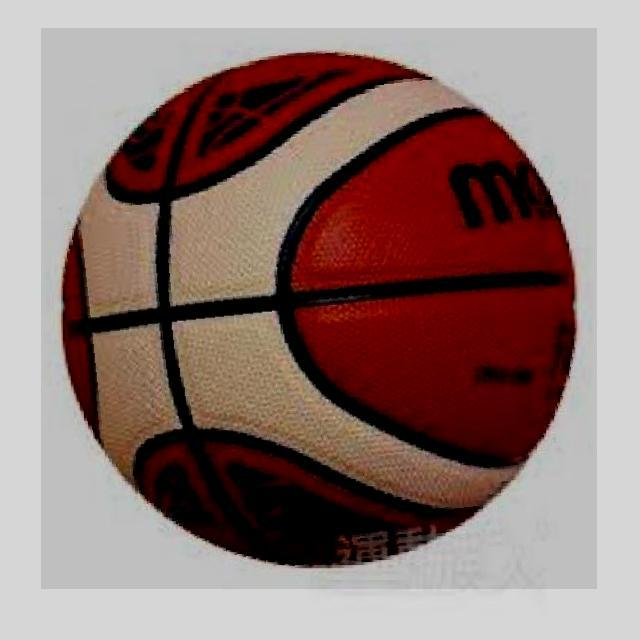Ball: (41, 29, 597, 588)
